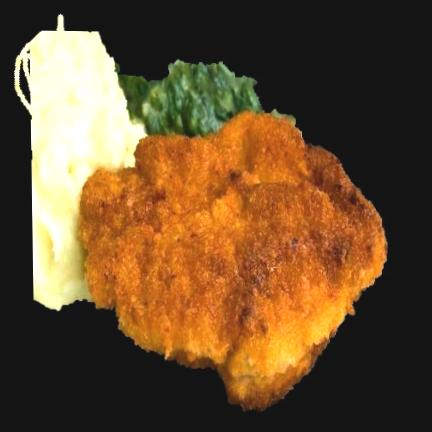chicken: (80, 112, 387, 409)
potato: (17, 15, 145, 309)
